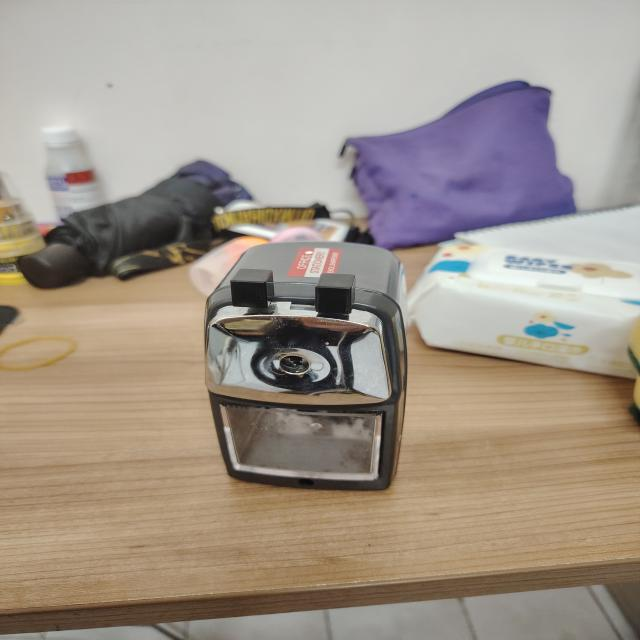sharpener: (204, 240, 407, 490), (190, 237, 267, 296)
